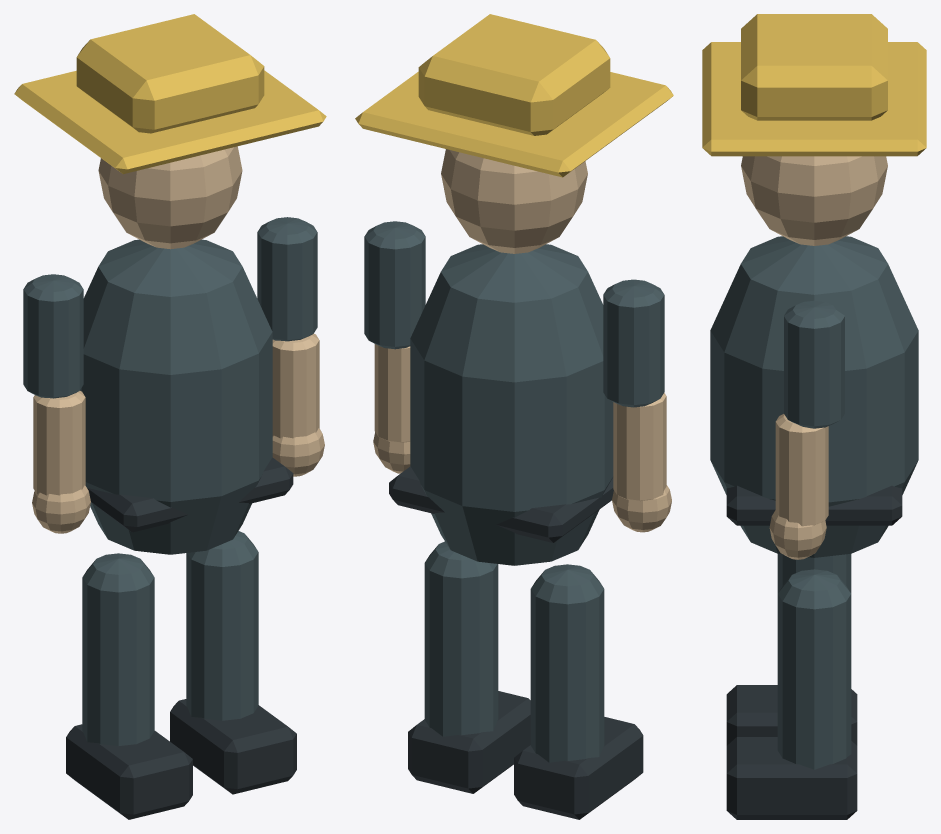
Rendered from BuilderCapsule.fbx.
3 renders of one model, left to right at view 1: azimuth 30°, elevation 25°; view 2: azimuth 150°, elevation 25°; view 3: azimuth 270°, elevation 25°, orthographic. The views are drawn at different scales.
Parts seen in each view (by area): view 1: Body, HatCrown, LegL, LegR, HatBrim, Head, BootL, BootR, UpperArmL, UpperArmR, ForearmL, ForearmR (+3 smaller); view 2: Body, HatCrown, LegL, LegR, HatBrim, Head, BootL, UpperArmL, BootR, UpperArmR, ForearmL, Belt (+3 smaller); view 3: Body, HatCrown, HatBrim, LegR, Head, BootR, UpperArmR, ForearmR, Belt, BootL, HandR, LegL.
Boxes of the visible parts, box(x1,y1,x2,y2) form: Body: box(80, 239, 272, 554); HatCrown: box(76, 14, 264, 133); LegL: box(82, 553, 154, 746); LegR: box(186, 531, 258, 720); HatBrim: box(14, 70, 326, 174); Head: box(98, 146, 242, 249); BootL: box(66, 724, 192, 819); BootR: box(170, 699, 296, 794); UpperArmL: box(23, 274, 83, 398); UpperArmR: box(257, 217, 317, 341); ForearmL: box(33, 391, 85, 495); ForearmR: box(272, 333, 319, 438); Body: box(410, 244, 613, 565); HatCrown: box(418, 14, 610, 135); LegL: box(530, 564, 604, 762); LegR: box(424, 541, 498, 736); HatBrim: box(355, 71, 673, 177); Head: box(441, 149, 587, 253); BootL: box(514, 717, 643, 819); UpperArmL: box(603, 279, 664, 407); BootR: box(408, 691, 530, 793); UpperArmR: box(364, 221, 425, 349); ForearmL: box(613, 392, 666, 501); Belt: box(389, 466, 613, 542); Body: box(710, 236, 918, 557); HatCrown: box(741, 14, 887, 120); HatBrim: box(702, 42, 926, 156); LegR: box(777, 569, 851, 769); Head: box(741, 156, 887, 245); BootR: box(726, 737, 857, 819); UpperArmR: box(784, 300, 844, 428); ForearmR: box(775, 414, 828, 526); Belt: box(726, 485, 902, 525); BootL: box(726, 685, 857, 745); HandR: box(769, 510, 826, 559); LegL: box(777, 554, 851, 593).
Size of the model in its own units: 0.825 by 2 by 0.55.
